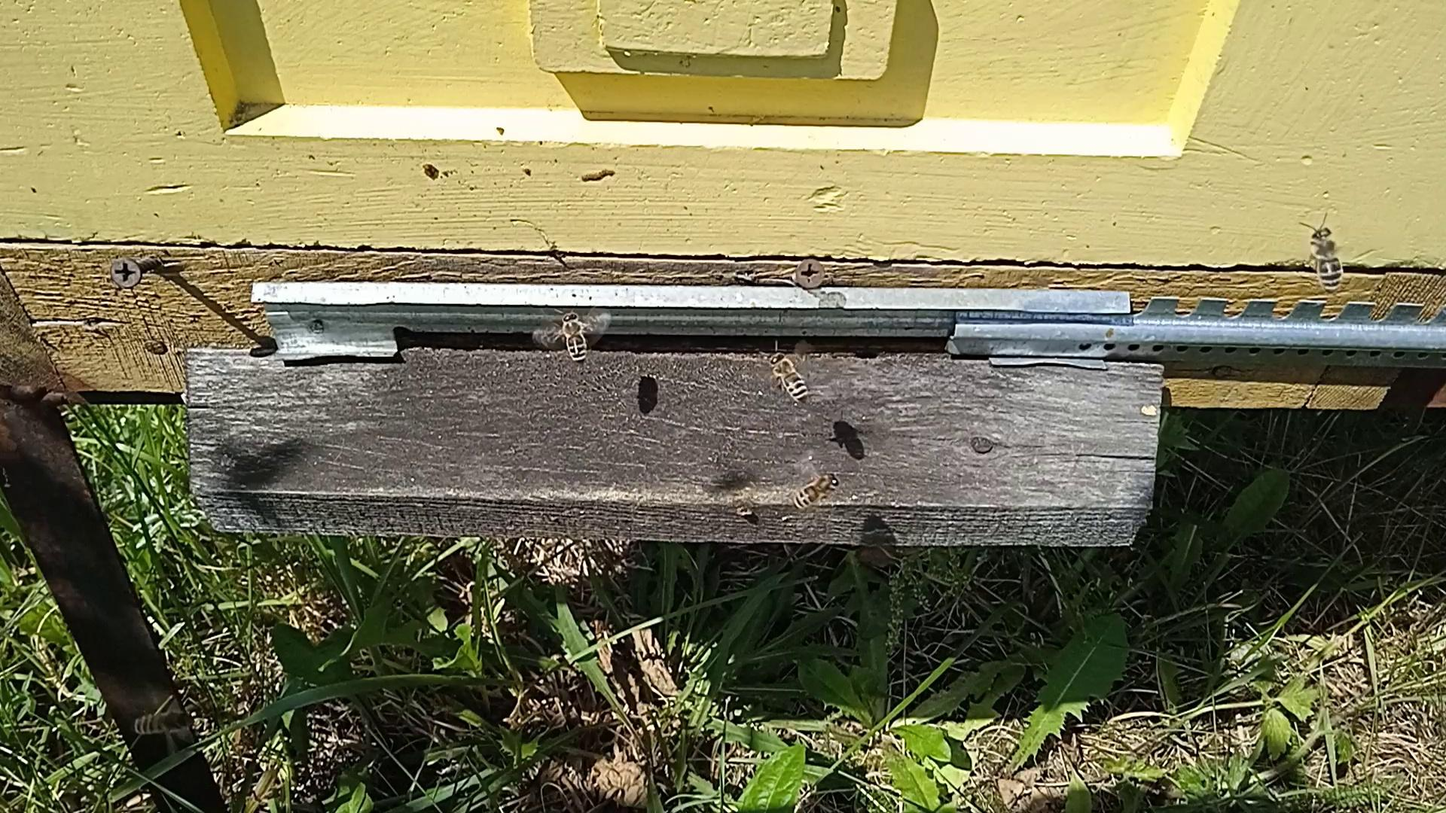worker-bee: (1308, 224, 1344, 289), (769, 352, 810, 404), (792, 471, 840, 510), (558, 311, 590, 363), (135, 713, 194, 735)
